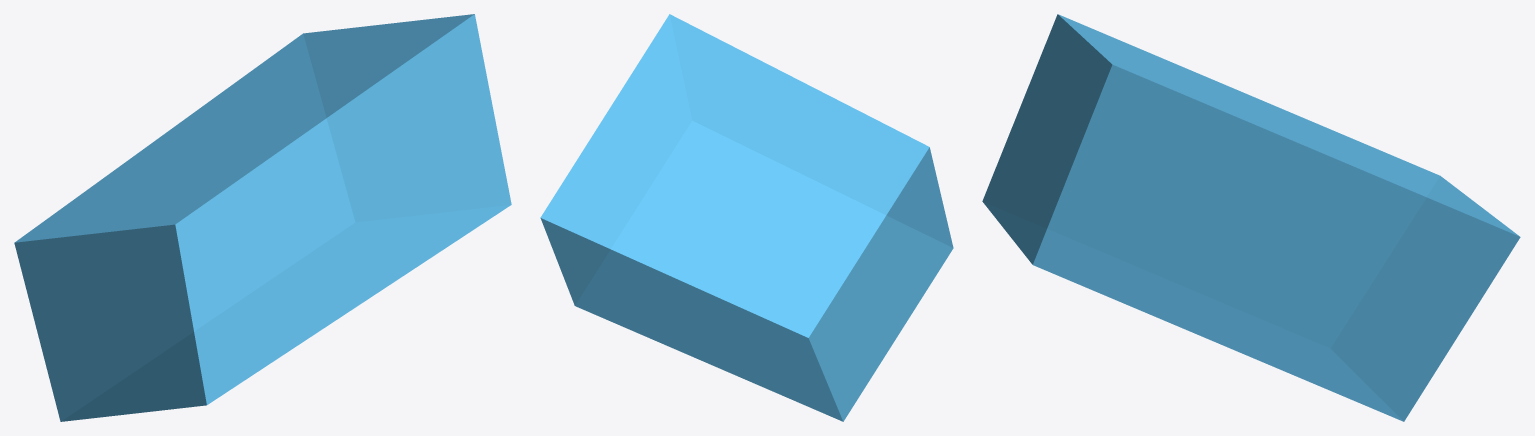
Rendered from Event_421556567_HErechit_56.fbx.
The picture shows the model from 3 angles, left to right: view 1: azimuth 30°, elevation 25°; view 2: azimuth 150°, elevation 25°; view 3: azimuth 270°, elevation 25°; orthographic projection. The views are drawn at different scales.
Visible parts, largest first — view 1: Model; view 2: Model; view 3: Model.
Part boxes in pixels (x1=…): Model: x1=14, y1=14, x2=511, y2=421; Model: x1=540, y1=14, x2=953, y2=421; Model: x1=982, y1=14, x2=1520, y2=421.
Bounding box in the file's own units: 0.7408 × 0.8608 × 0.8914.
